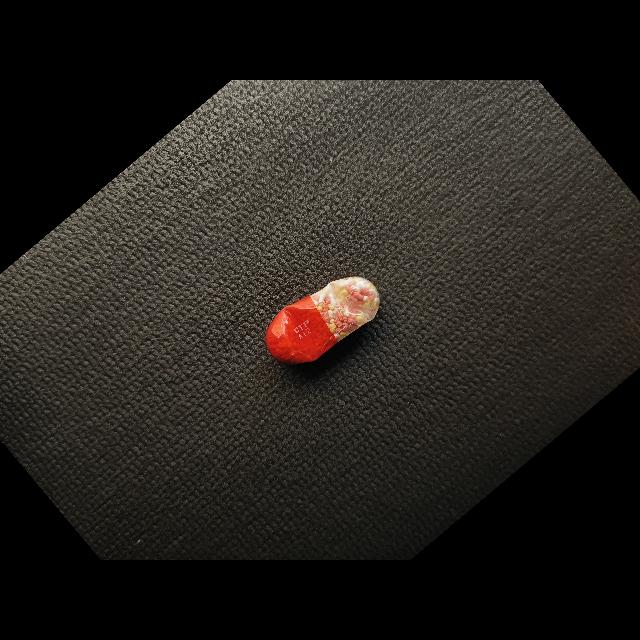Defective Capsule: (266, 276, 380, 364)
